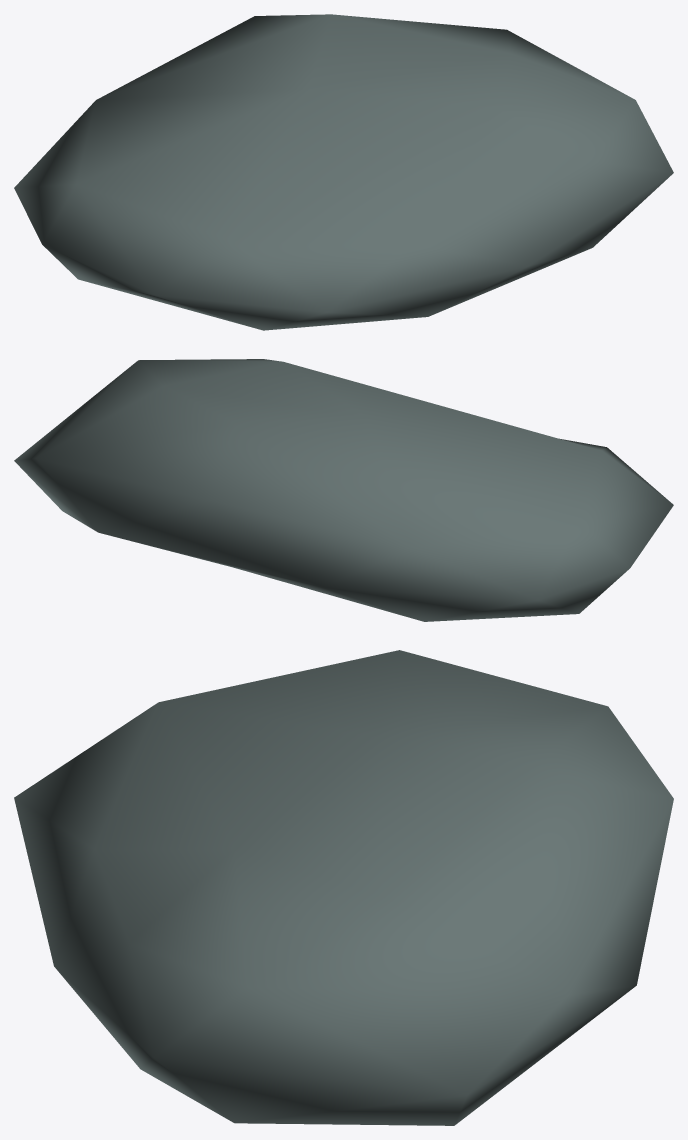
Rendered from Rock.fbx.
The picture shows the model from 3 angles, top to bottom: view 1: azimuth 30°, elevation 25°; view 2: azimuth 150°, elevation 25°; view 3: azimuth 270°, elevation 25°; orthographic projection. The views are drawn at different scales.
Parts seen in each view (by area): view 1: Rock; view 2: Rock; view 3: Rock.
Part boxes in pixels (x1,y1,x2,y2): Rock: [14, 14, 673, 330]; Rock: [14, 359, 673, 621]; Rock: [14, 650, 673, 1125].
Size of the model in its own units: 769 by 222 by 536.
